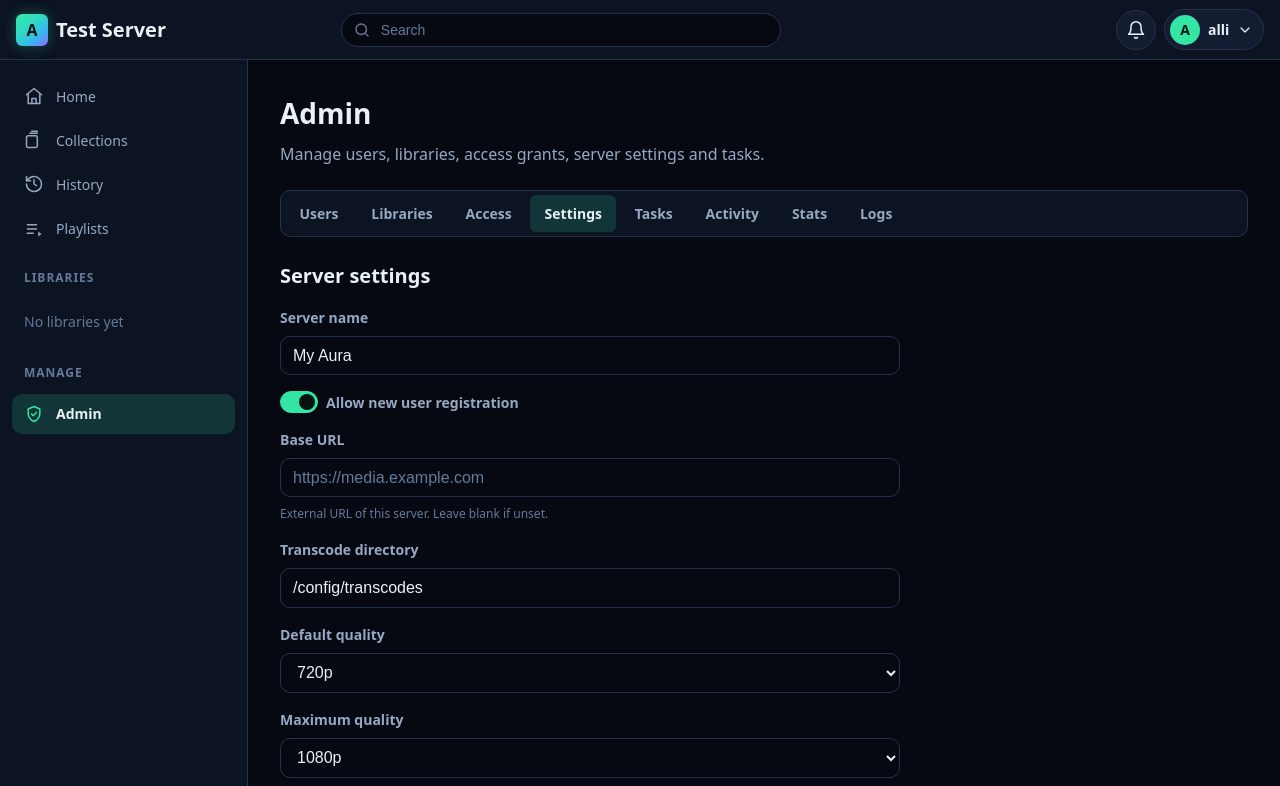
Test: AdminSettingsPage › reports no changes when re-saving without further edits
The image size is (1280, 786).
Step 1. Replace the text in the field labelled "Server name" with "Renamed" → (590, 356), box [280,336,900,375]
(page scrolled)
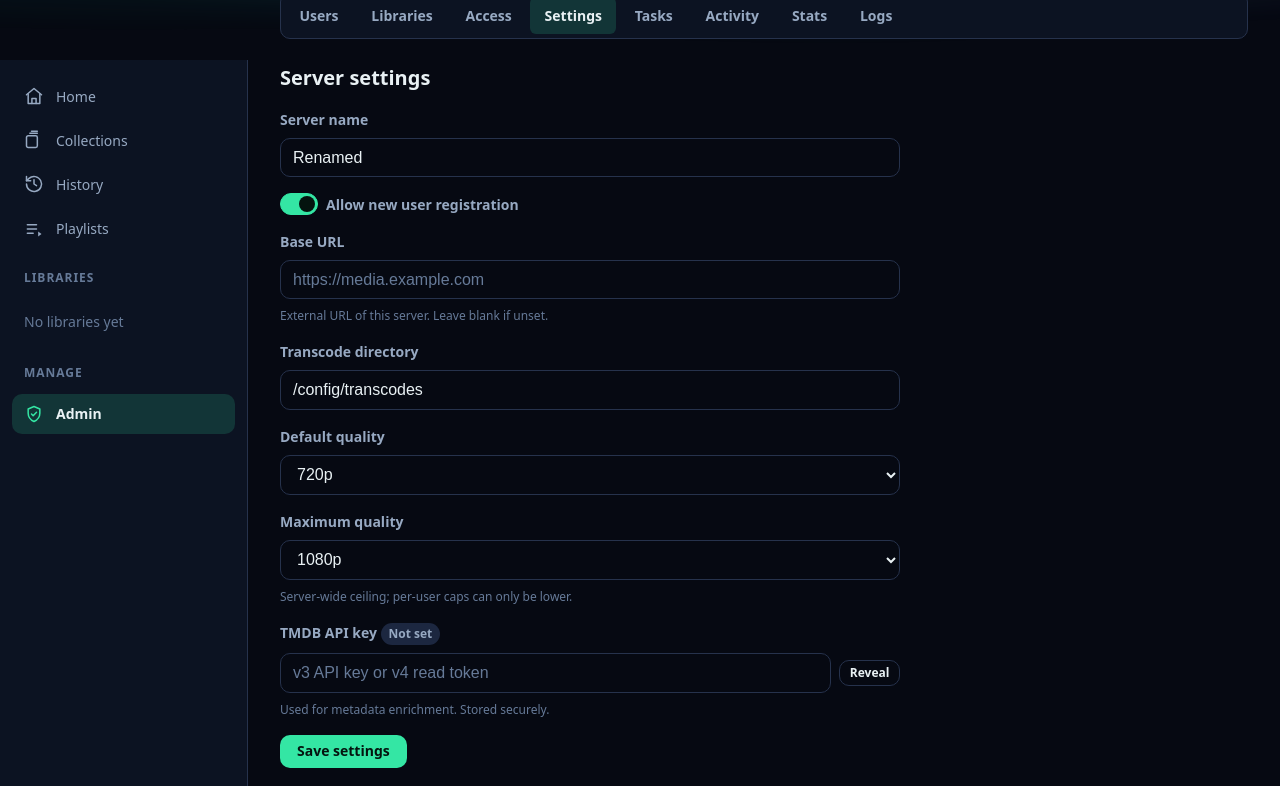
Step 2. Click the button "Save settings" → (343, 751), box [280,734,407,768]
(page scrolled)
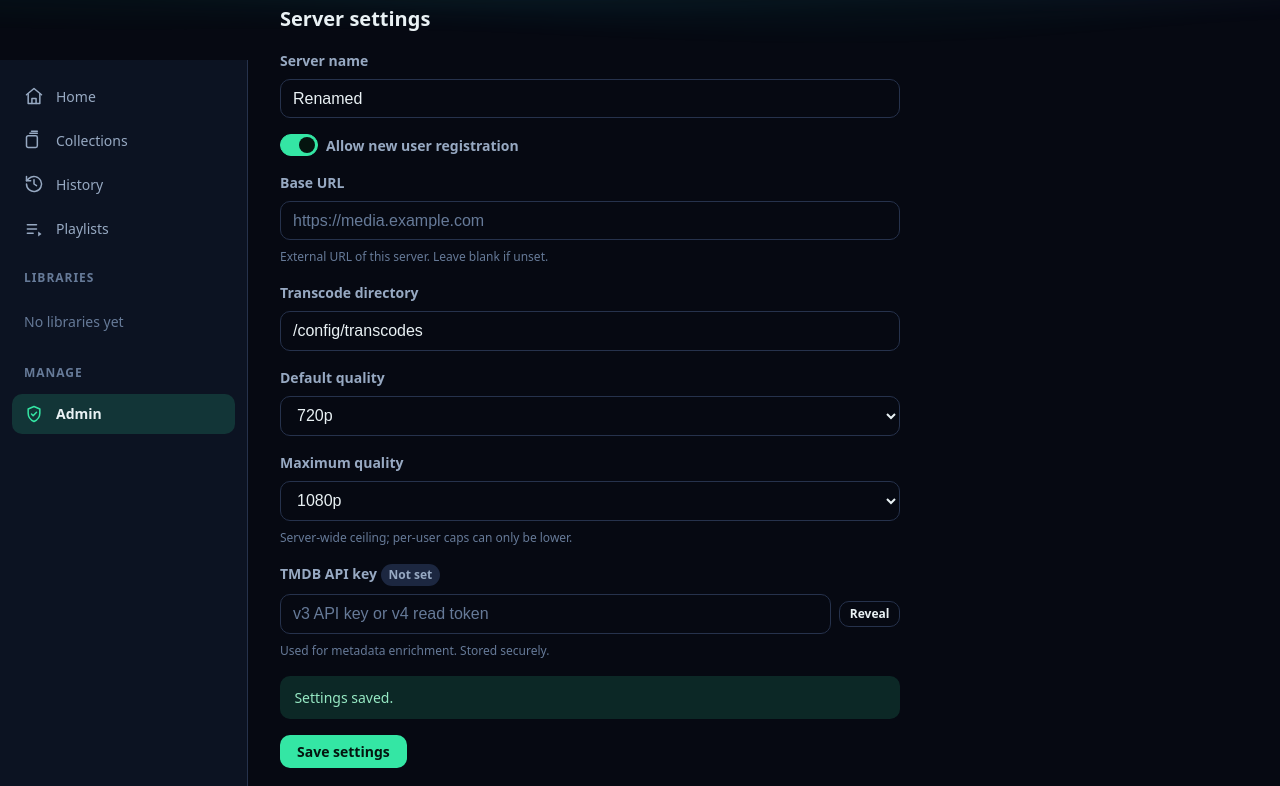
Result: the text "Settings saved." is shown at [280,676,900,719]
// The baseline advanced, so a second save with no edits is a no-op.
Step 3. Click the button "Save settings" → (343, 752), box [280,735,407,768]
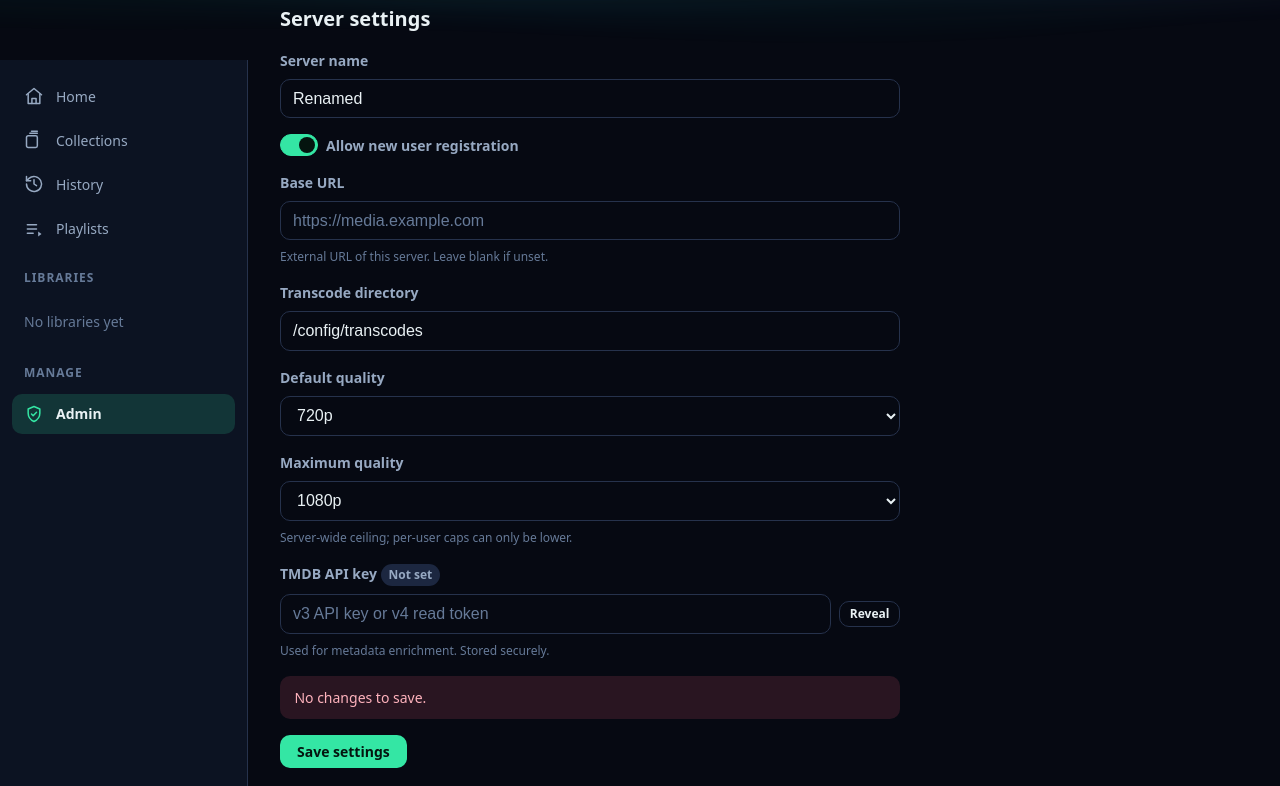
Result: the text "No changes to save." is shown at [280,676,900,719]
